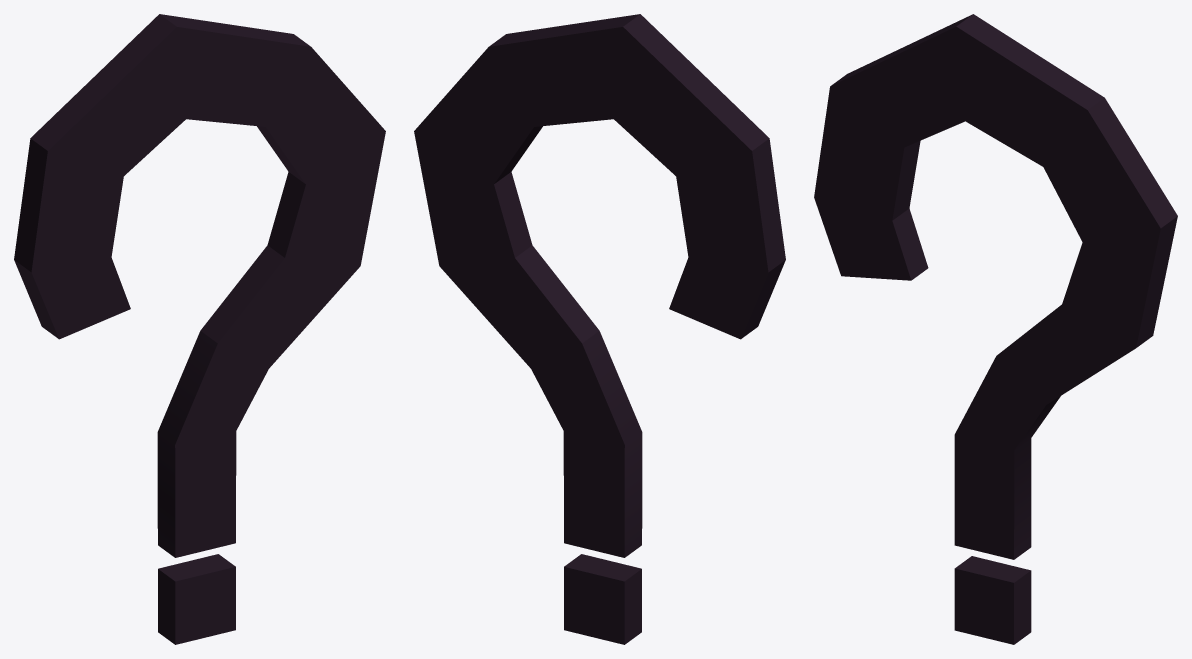
Rendered from hatena.FBX.
The picture shows the model from 3 angles, left to right: view 1: azimuth 30°, elevation 25°; view 2: azimuth 150°, elevation 25°; view 3: azimuth 330°, elevation 25°; orthographic projection. The views are drawn at different scales.
Parts seen in each view (by area): view 1: Box001; view 2: Box001; view 3: Box001.
Part boxes in pixels (bbox=[...]): Box001: bbox=[14, 14, 385, 644]; Box001: bbox=[414, 14, 785, 644]; Box001: bbox=[814, 14, 1177, 644].
Size of the model in its own units: 234 by 390 by 20.
